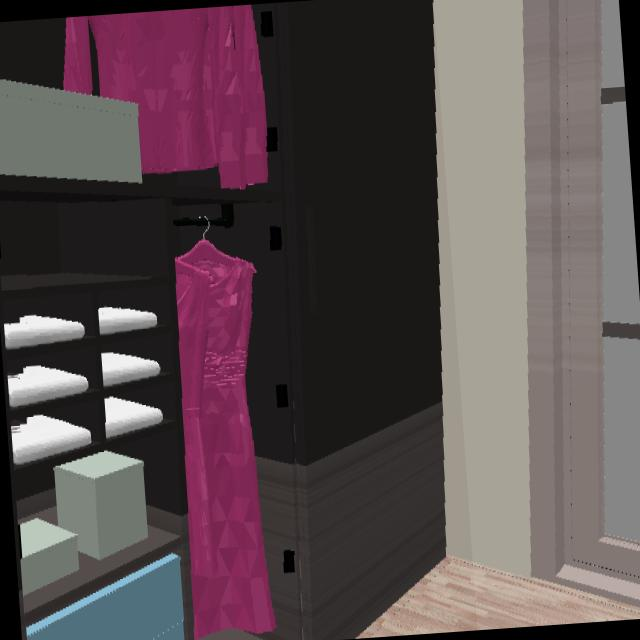wardrobe: (0, 0, 445, 640)
